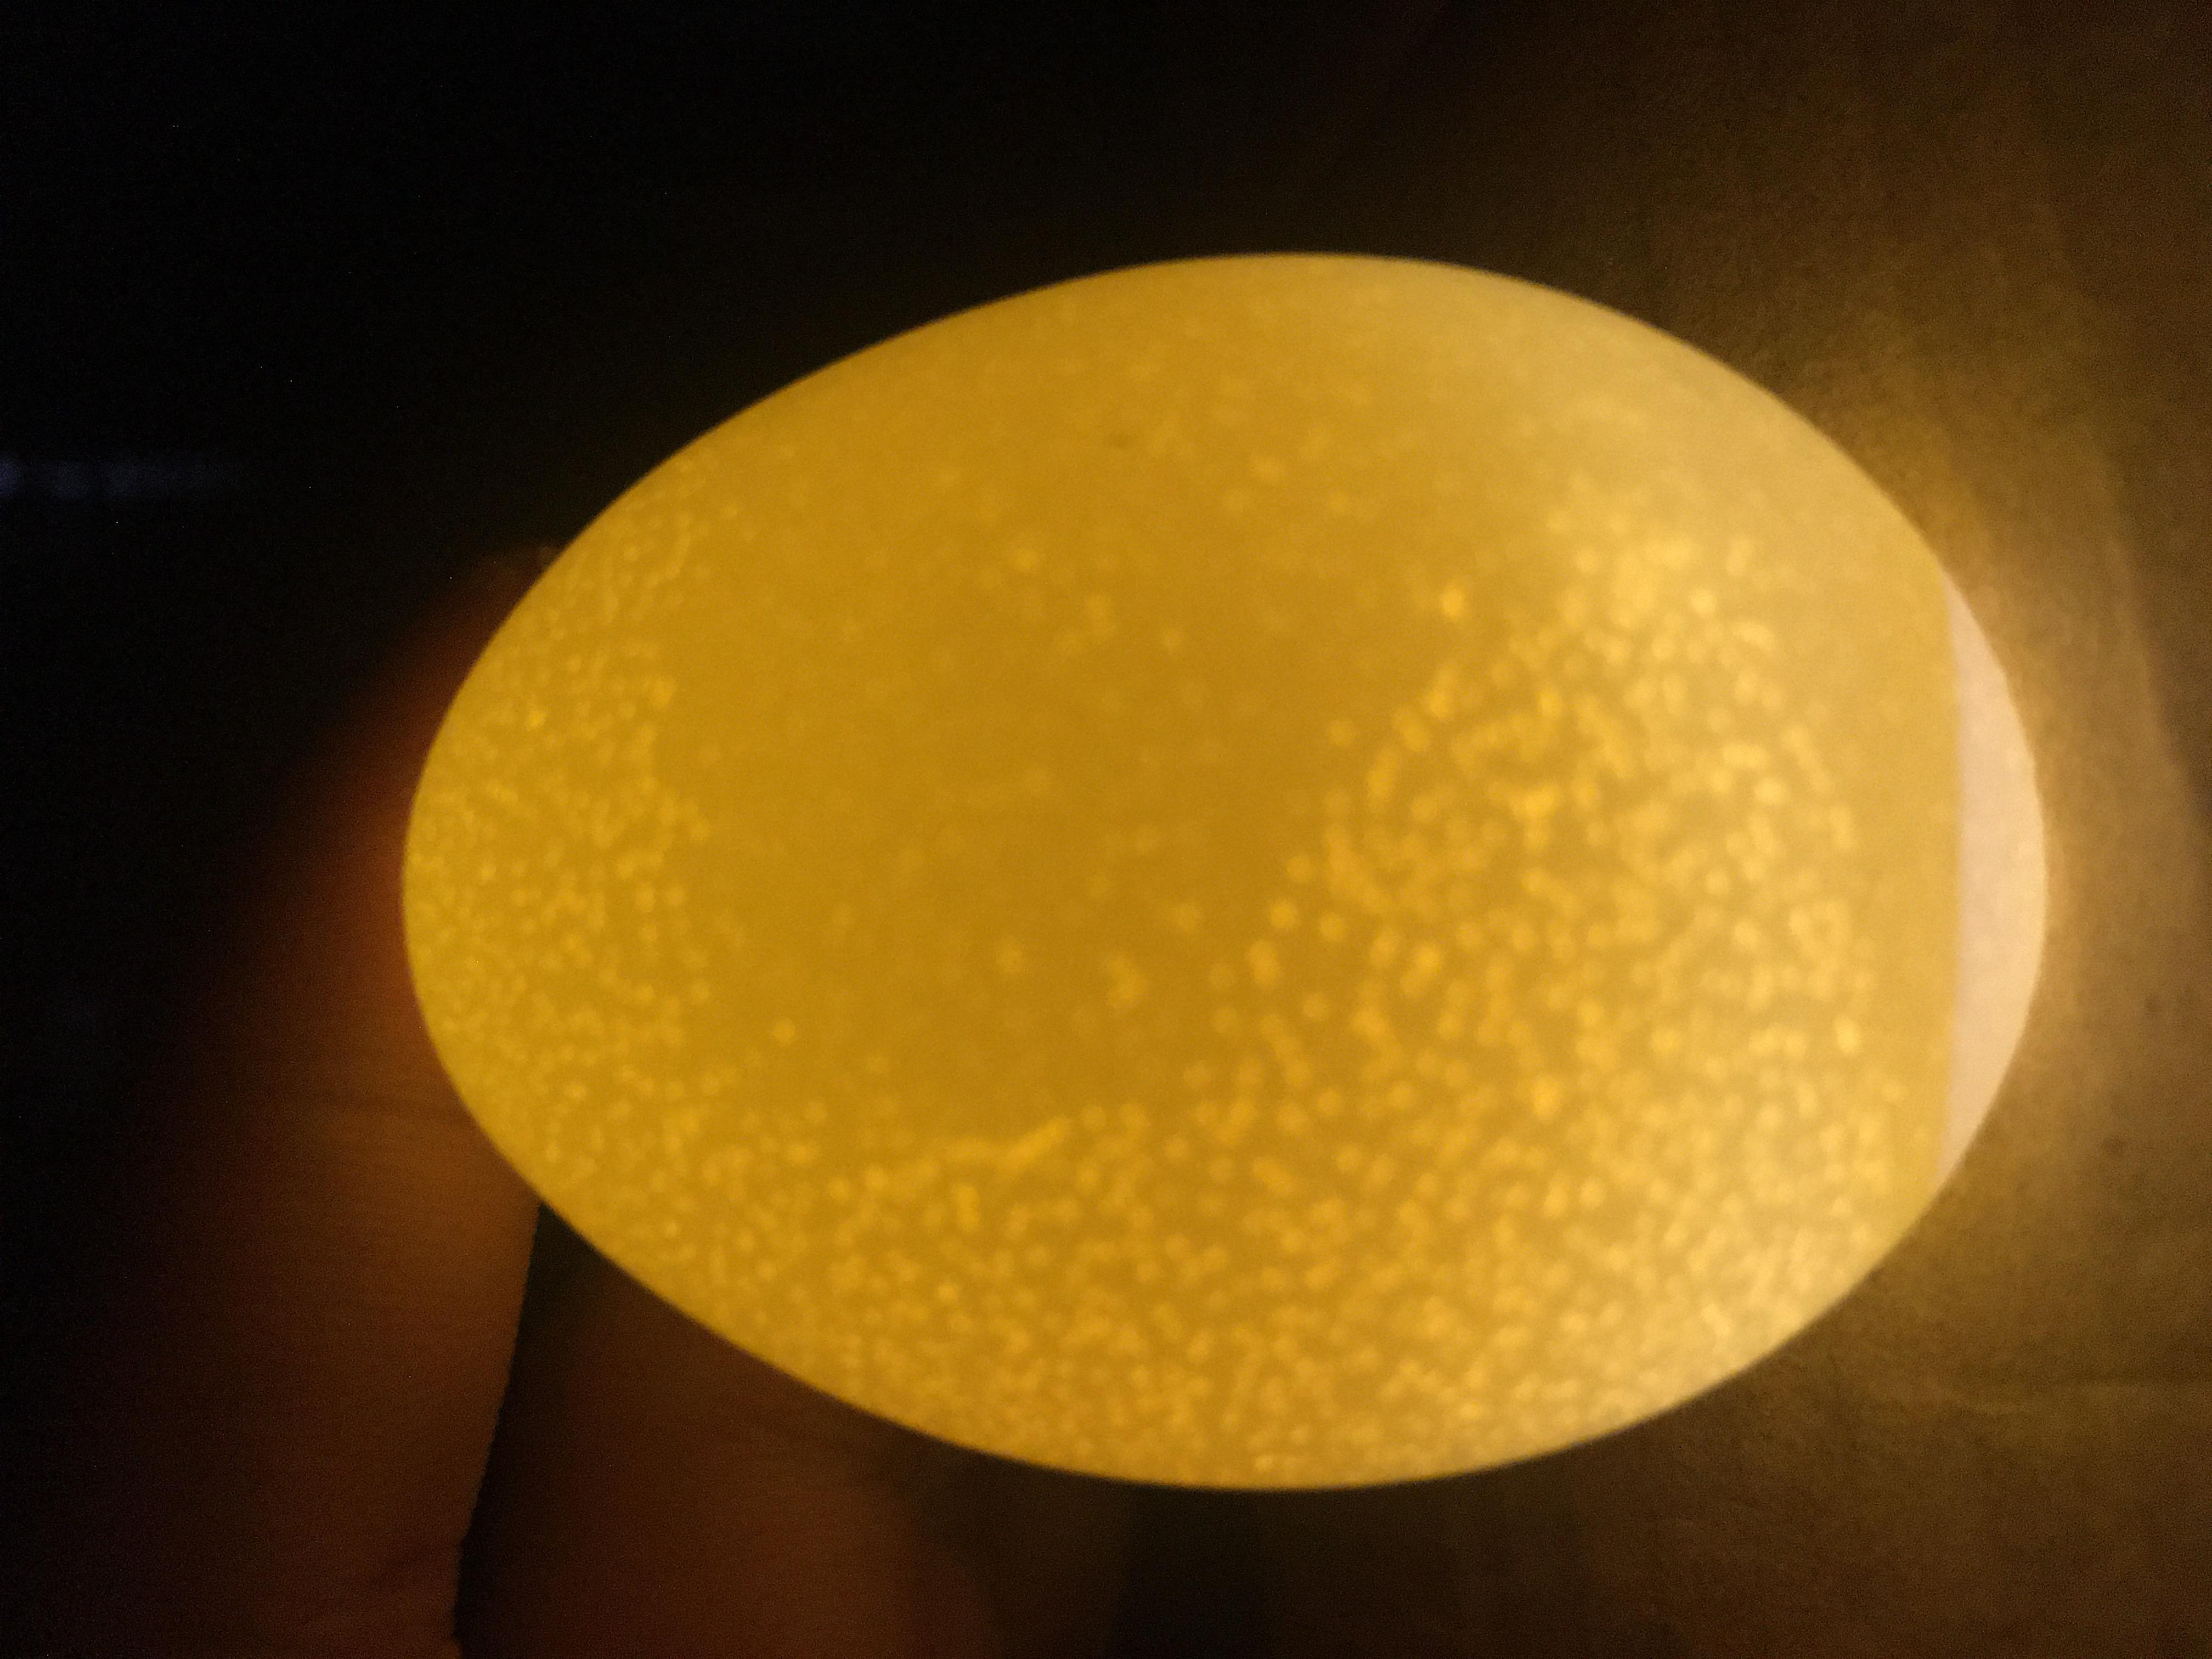AA - Premium: (223, 288, 1892, 1546)
